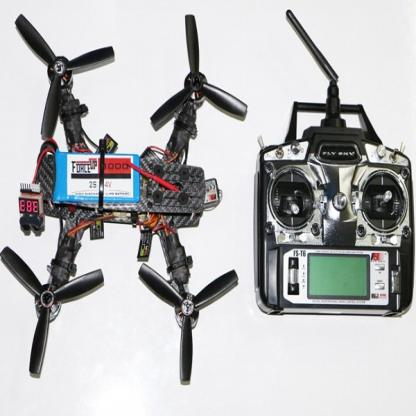drone: (1, 8, 251, 394)
